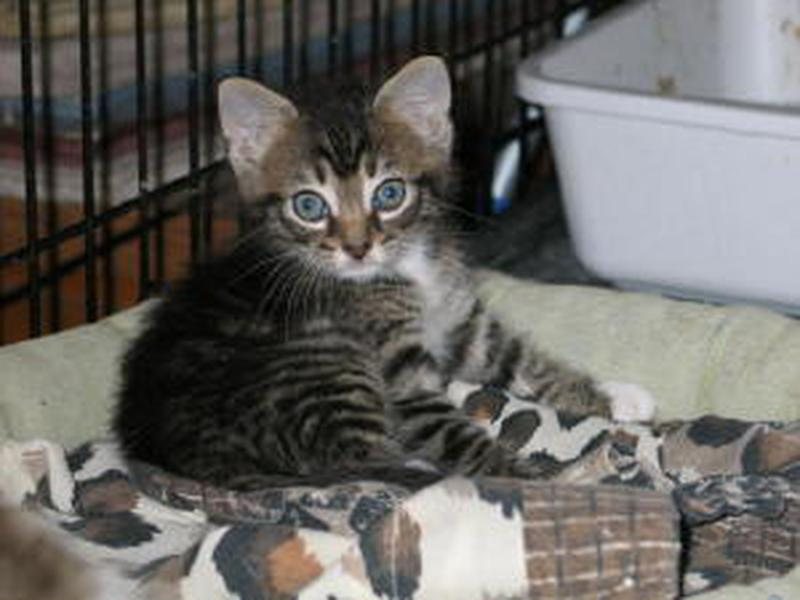cat: (115, 46, 642, 486)
